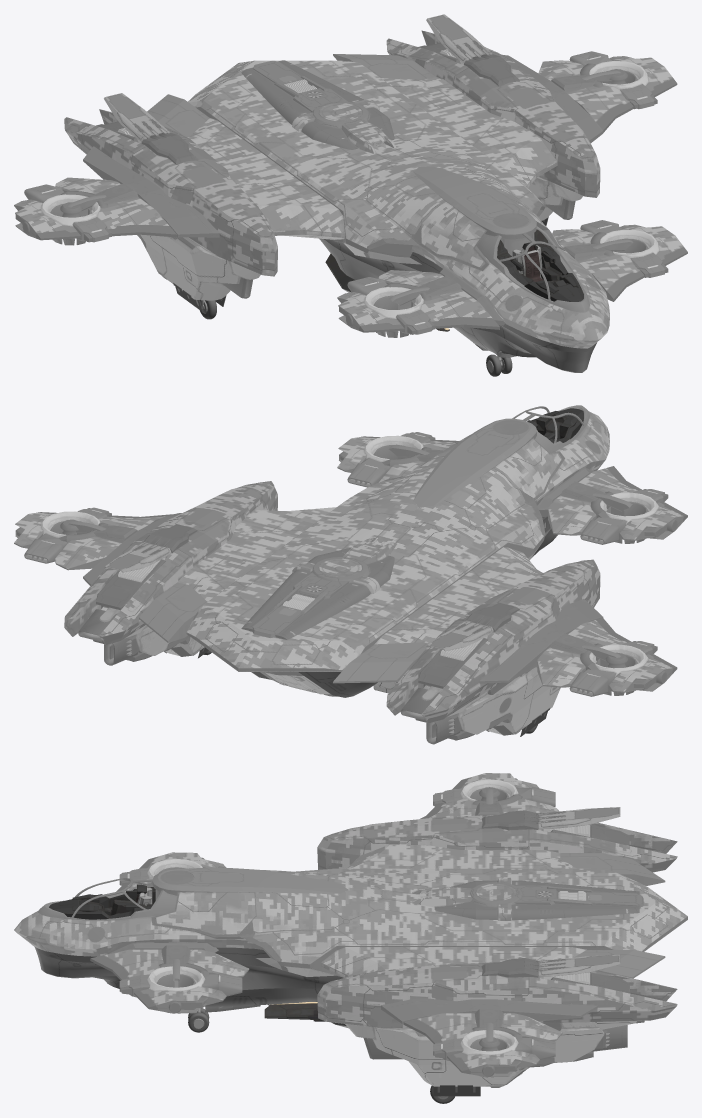
The model's file is drop_body.glb.
3 views of the same model, one above another, from view 1: azimuth 30°, elevation 25°; view 2: azimuth 150°, elevation 25°; view 3: azimuth 270°, elevation 25° (orthographic). The views are drawn at different scales.
Parts seen in each view (by area): view 1: drop_body; view 2: drop_body; view 3: drop_body.
Part boxes in pixels (x1,y1,x2,y2): drop_body: [14, 14, 687, 376]; drop_body: [14, 405, 687, 744]; drop_body: [14, 773, 687, 1103].
Bounding box in the file's own units: 17.96 × 4.36 × 17.5.
7 materials, 7 textured.
